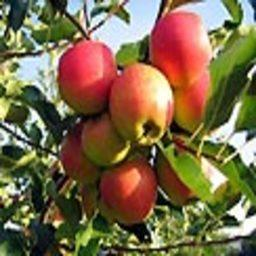apple: (108, 63, 172, 142), (55, 42, 118, 115), (150, 11, 210, 84), (98, 158, 156, 223), (173, 74, 218, 133), (82, 115, 129, 164), (62, 126, 103, 181)
